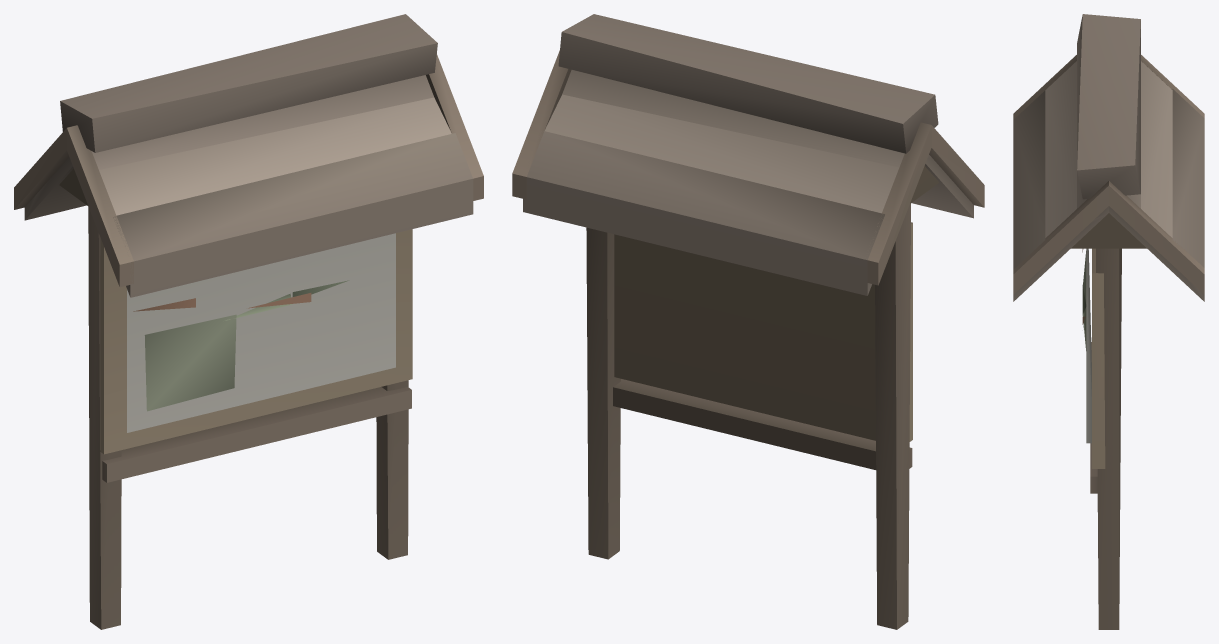
The model's file is kiosk.lod1.glb.
3 views of the same model, side by side, from view 1: azimuth 30°, elevation 25°; view 2: azimuth 150°, elevation 25°; view 3: azimuth 270°, elevation 25° (orthographic). The views are drawn at different scales.
Size of the model in its own units: 2.03 by 2.78 by 1.02.
